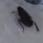cockroach: (16, 6, 34, 30)
